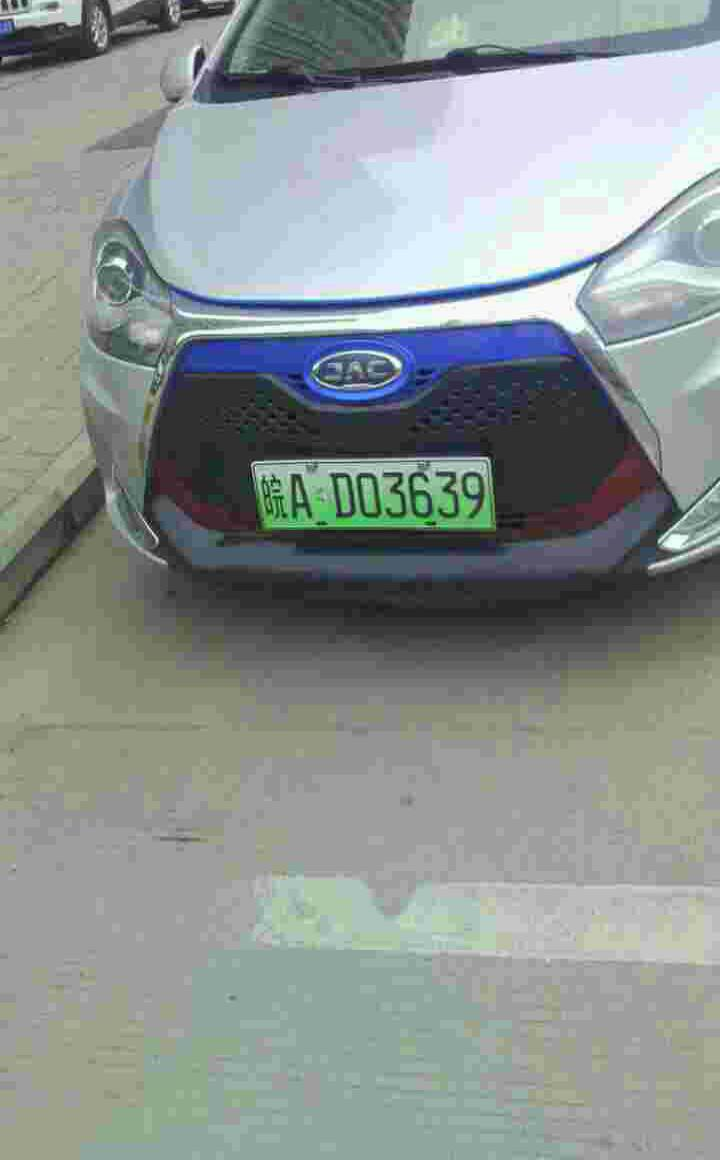car_id: (251, 455, 497, 530)
